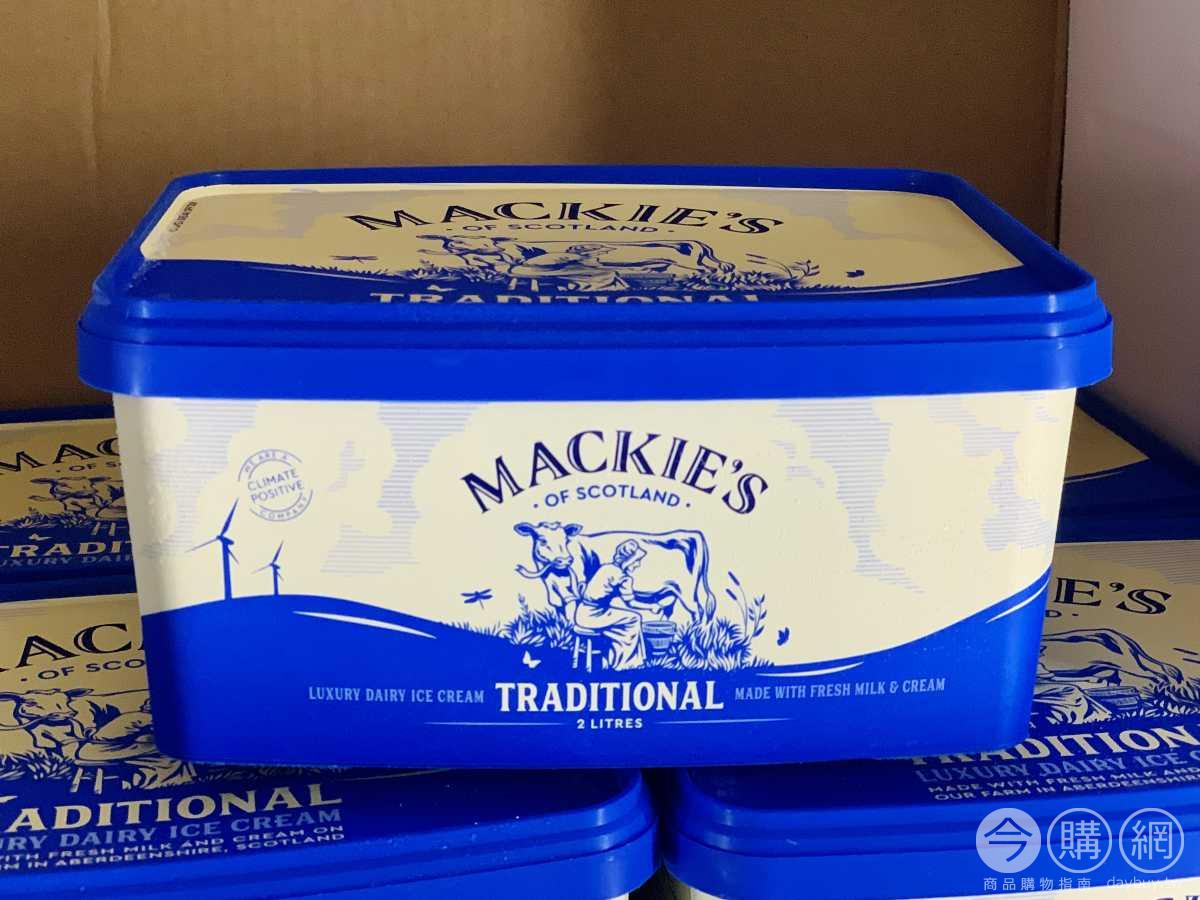plastic: (79, 167, 1111, 768), (661, 712, 1199, 899)
